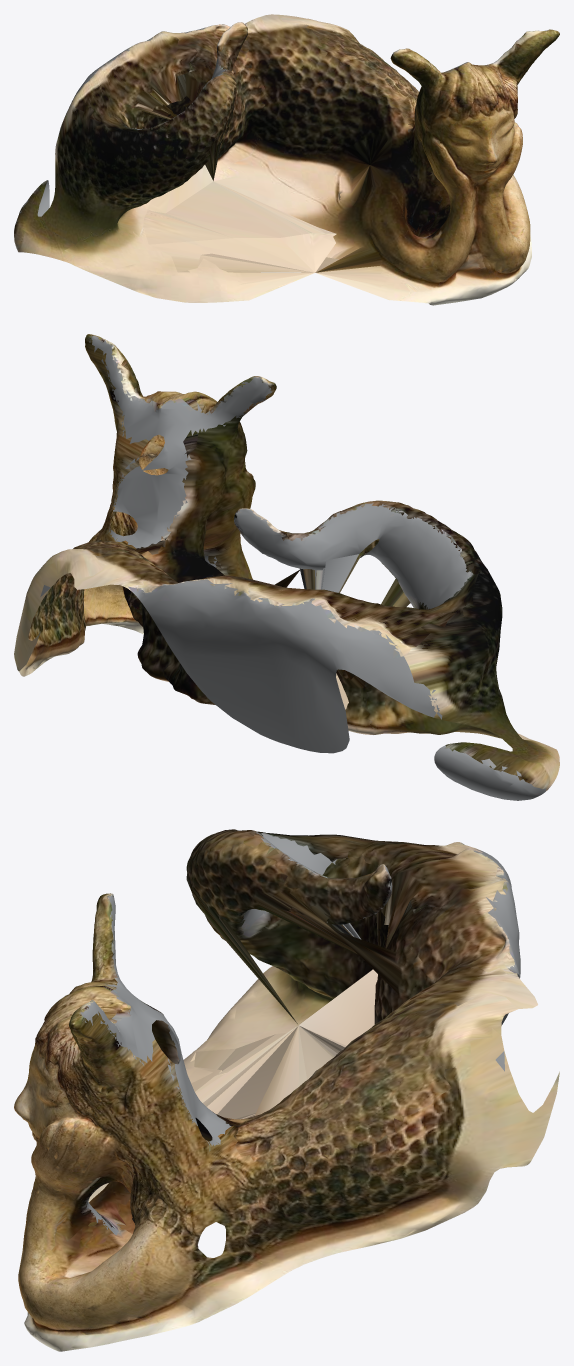
File: wormWoman.glb
3 views of the same model, one above another, from view 1: azimuth 30°, elevation 25°; view 2: azimuth 150°, elevation 25°; view 3: azimuth 270°, elevation 25° (orthographic). The views are drawn at different scales.
Visible parts, largest first — view 1: wormWoman; view 2: wormWoman; view 3: wormWoman.
Boxes of the visible parts, <box> form: wormWoman: <box>14,14,559,305</box>; wormWoman: <box>14,334,559,800</box>; wormWoman: <box>14,829,559,1351</box>.
Size of the model in its own units: 22.42 by 11.75 by 14.95.
1 material, 1 textured.
